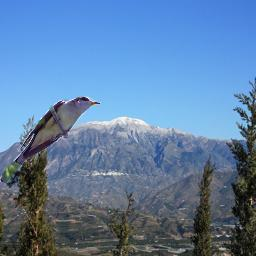Cuckoo: (0, 96, 101, 183)
